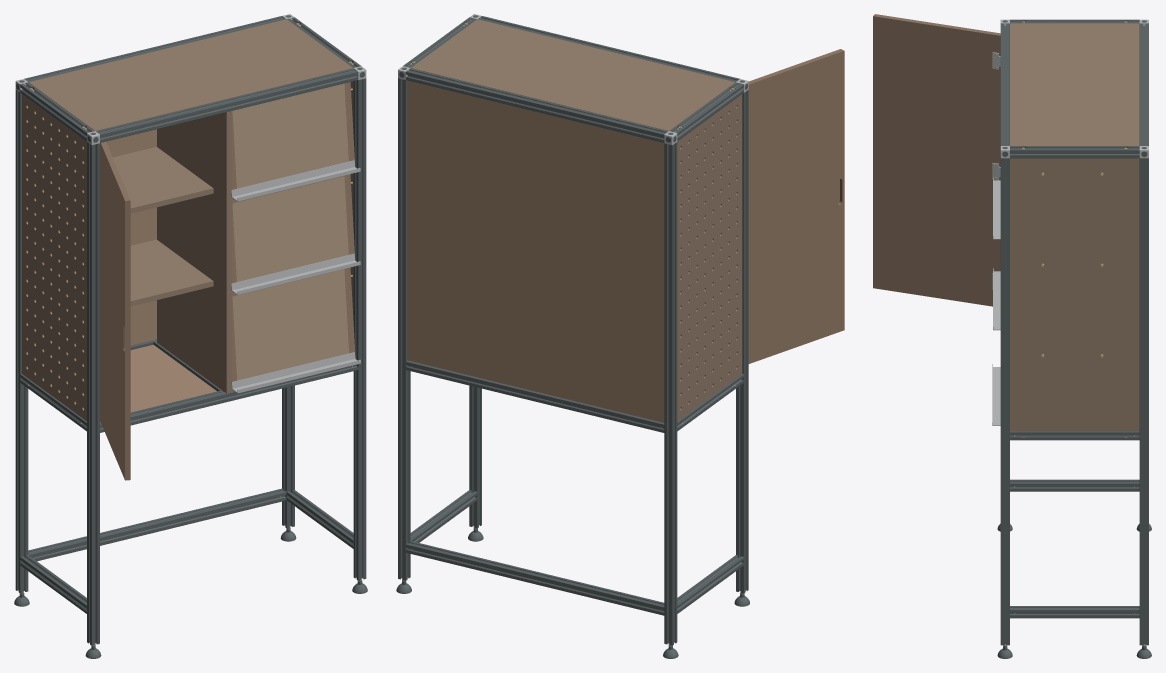
Rendered from cabinet-110.glb.
3 views of the same model, side by side, from view 1: azimuth 30°, elevation 25°; view 2: azimuth 150°, elevation 25°; view 3: azimuth 270°, elevation 25° (orthographic). The views are drawn at different scales.
Parts seen in each view (by area): view 1: Left-pegboard-18, Top-18, Center-18, Plywood-infill-6-1, Plywood-infill-6-2, Left-door-face-18, Plywood-infill-6-3, Post-966-23, Post-4-23, Post-4-470, Shelf-Left-2, Shelf-Left-1 (+18 smaller); view 2: Back-infill-8, Left-door-face-18, Left-pegboard-18, Top-18, Post-4-470, Post-966-470, Post-4-23, Beam-top-rear, Beam-lower-rear, Beam-body-rear, Post-966-23, Beam-top-front (+4 smaller); view 3: Right-wall-18, Left-door-face-18, Top-18, Post-966-23, Post-966-470, Beam-lower-side-4, Beam-lower-side-966, Beam-top-side-966, Beam-body-side-966, Beam-top-front, Beam-top-rear, Beam-top-side-4 (+3 smaller).
Boxes of the visible parts, bbox=[...] form: Left-pegboard-18: bbox=[22, 94, 86, 420]; Top-18: bbox=[28, 19, 352, 130]; Center-18: bbox=[157, 111, 231, 393]; Plywood-infill-6-1: bbox=[232, 269, 348, 380]; Plywood-infill-6-2: bbox=[232, 176, 348, 281]; Left-door-face-18: bbox=[100, 141, 130, 480]; Plywood-infill-6-3: bbox=[232, 83, 348, 188]; Post-966-23: bbox=[353, 78, 366, 580]; Post-4-23: bbox=[87, 142, 99, 645]; Post-4-470: bbox=[15, 90, 28, 593]; Shelf-Left-2: bbox=[113, 147, 213, 213]; Shelf-Left-1: bbox=[130, 239, 213, 306]; Back-infill-8: bbox=[407, 80, 664, 422]; Left-door-face-18: bbox=[748, 49, 844, 363]; Left-pegboard-18: bbox=[677, 94, 742, 420]; Top-18: bbox=[411, 19, 735, 130]; Post-4-470: bbox=[664, 142, 677, 645]; Post-966-470: bbox=[398, 78, 410, 580]; Post-4-23: bbox=[736, 90, 748, 593]; Beam-top-rear: bbox=[406, 68, 668, 142]; Beam-lower-rear: bbox=[406, 541, 664, 615]; Beam-body-rear: bbox=[406, 360, 664, 432]; Post-966-23: bbox=[469, 385, 481, 528]; Beam-top-front: bbox=[478, 16, 739, 82]; Right-wall-18: bbox=[1010, 158, 1139, 431]; Left-door-face-18: bbox=[873, 14, 1000, 306]; Top-18: bbox=[1010, 23, 1139, 146]; Post-966-23: bbox=[1000, 158, 1009, 645]; Post-966-470: bbox=[1139, 158, 1148, 645]; Beam-lower-side-4: bbox=[1010, 479, 1139, 491]; Beam-lower-side-966: bbox=[1010, 606, 1139, 618]; Beam-top-side-966: bbox=[1010, 146, 1139, 158]; Beam-body-side-966: bbox=[1010, 431, 1139, 440]; Beam-top-front: bbox=[1000, 23, 1009, 145]; Beam-top-rear: bbox=[1139, 23, 1148, 145]; Beam-top-side-4: bbox=[1010, 19, 1139, 23].
Bounding box in the file's own units: 1.11 × 1.8 × 0.8957.
